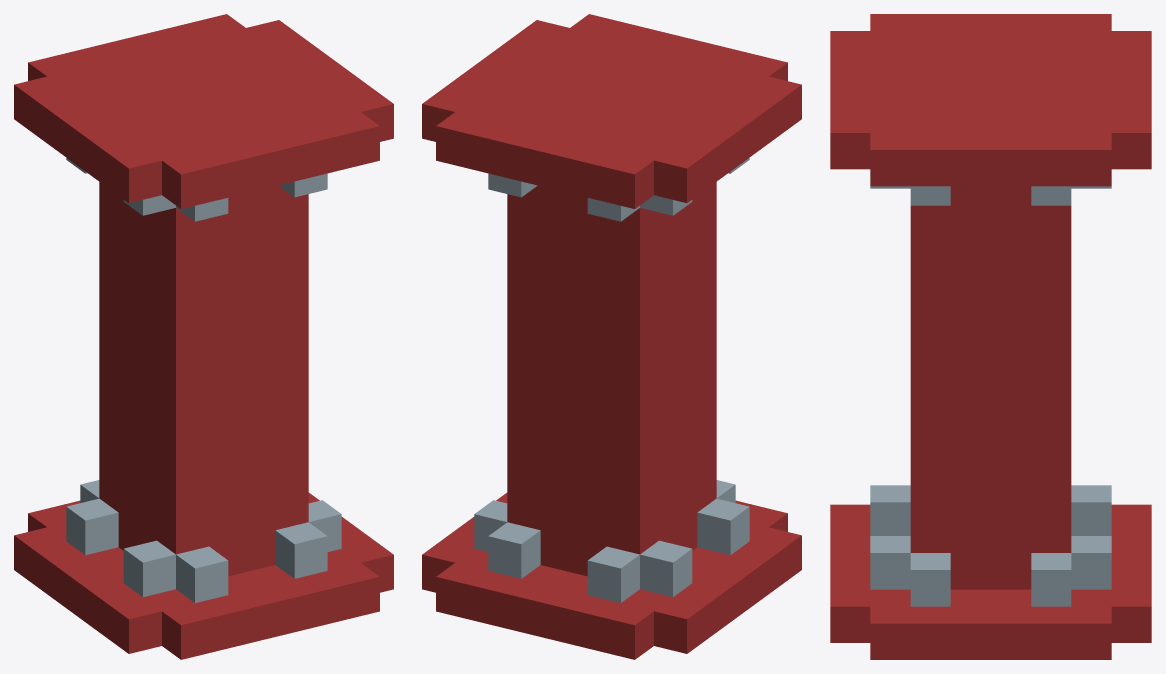
The model's file is TubeStraight.obj.
The picture shows the model from 3 angles, left to right: view 1: azimuth 30°, elevation 25°; view 2: azimuth 150°, elevation 25°; view 3: azimuth 270°, elevation 25°; orthographic projection. The views are drawn at different scales.
Size of the model in its own units: 8 by 14 by 8.
Materials: 1 (1 with a texture image).
